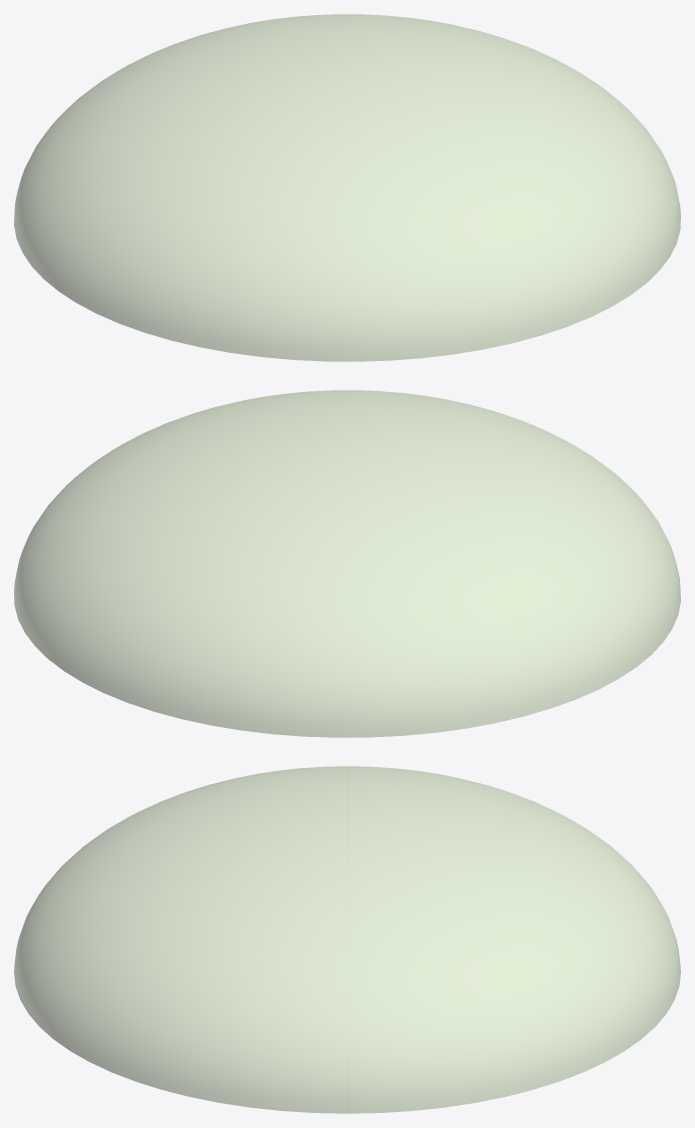
The model's file is prehnite.glb.
3 renders of one model, top to bottom at view 1: azimuth 30°, elevation 25°; view 2: azimuth 150°, elevation 25°; view 3: azimuth 270°, elevation 25°, orthographic.
Visible parts, largest first — view 1: prehnite; view 2: prehnite; view 3: prehnite.
Part boxes in pixels (x1,y1,x2,y2): prehnite: [14, 14, 680, 361]; prehnite: [14, 390, 680, 737]; prehnite: [14, 766, 680, 1113].
Size of the model in its own units: 0.25 by 0.0625 by 0.25.
